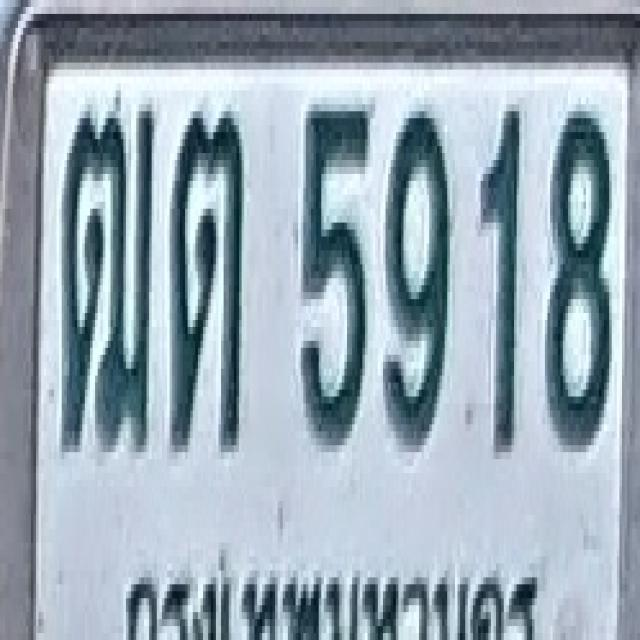-: (59, 105, 154, 452), (168, 108, 243, 449)
1: (478, 105, 519, 452)
5: (299, 101, 369, 449)
8: (546, 104, 611, 446)
9: (383, 104, 450, 446)
